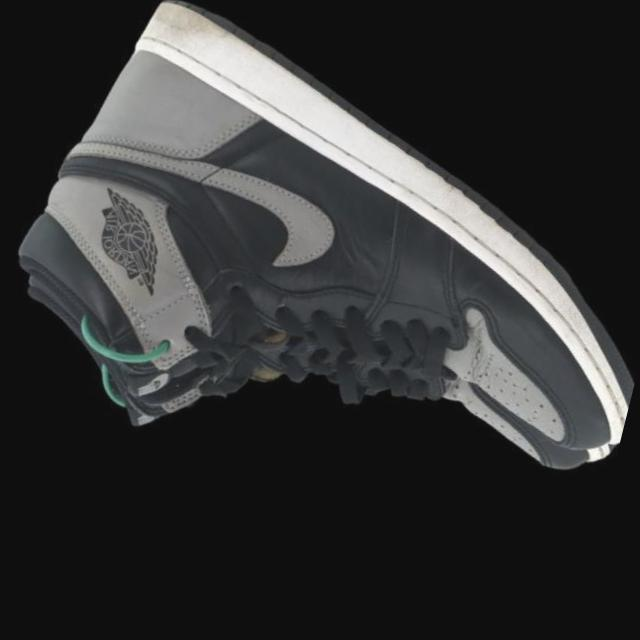nike_original_jordan: (0, 0, 640, 640), (0, 69, 640, 640)
